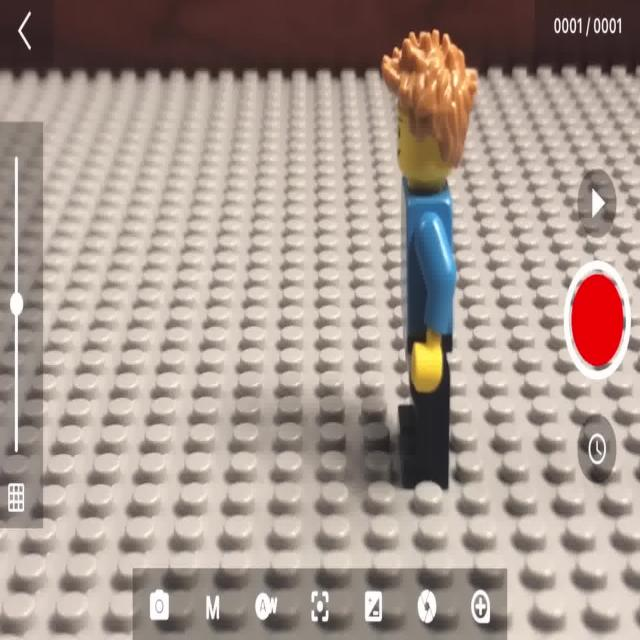4: (409, 208, 458, 394)
hand: (395, 30, 469, 489)
